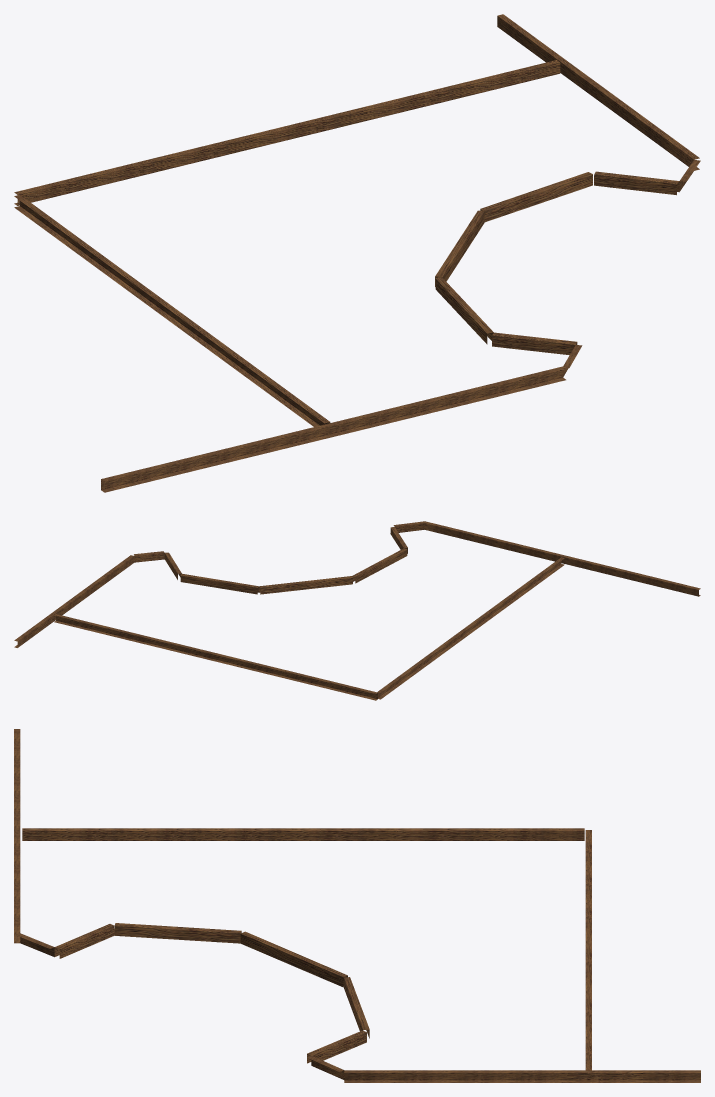
Rendered from LAKETOWN_EXTERIOR_PS_LT_PLANE893.obj.
3 views of the same model, one above another, from view 1: azimuth 30°, elevation 25°; view 2: azimuth 150°, elevation 25°; view 3: azimuth 270°, elevation 25° (orthographic). The views are drawn at different scales.
Parts seen in each view (by area): view 1: LT_Plane893; view 2: LT_Plane893; view 3: LT_Plane893.
Part boxes in pixels (<box>): LT_Plane893: <box>14,14,700,492</box>; LT_Plane893: <box>14,521,700,700</box>; LT_Plane893: <box>14,729,700,1082</box>.
Size of the model in its own units: 3631 by 49.88 by 3066.
